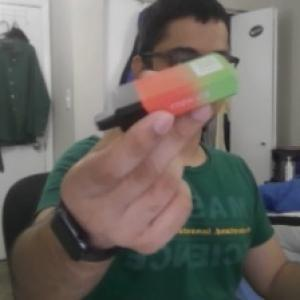Swift-E-Ciggirate: (91, 48, 236, 134)
